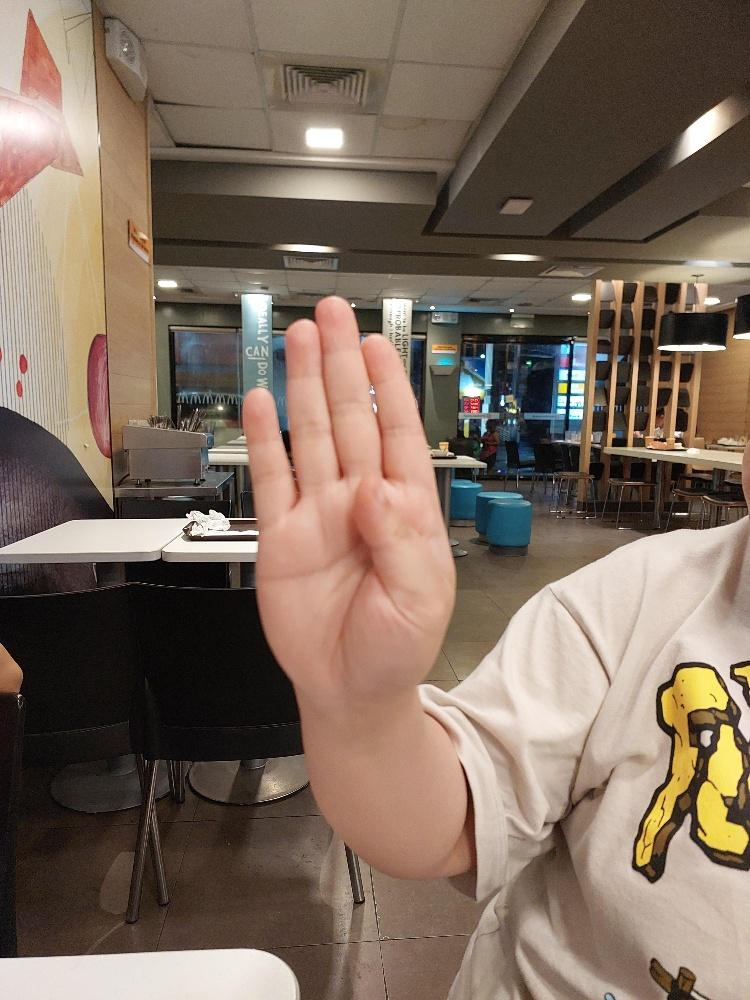b: (239, 293, 458, 698)
